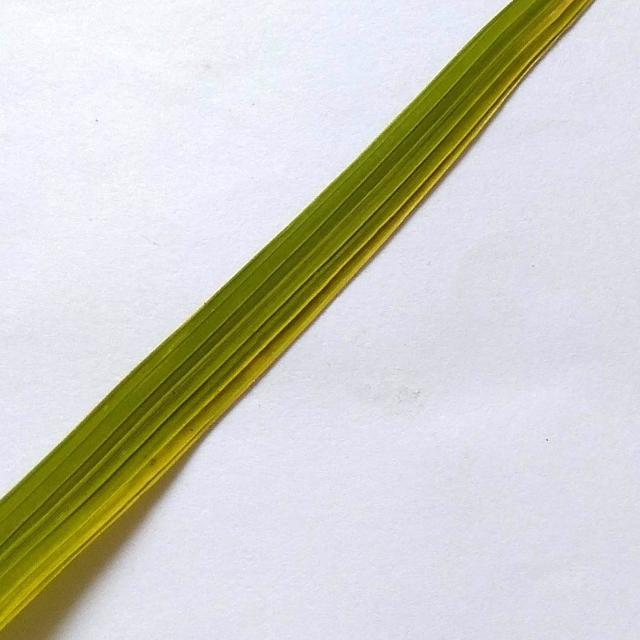Rice_Healthy: (0, 0, 592, 628)
